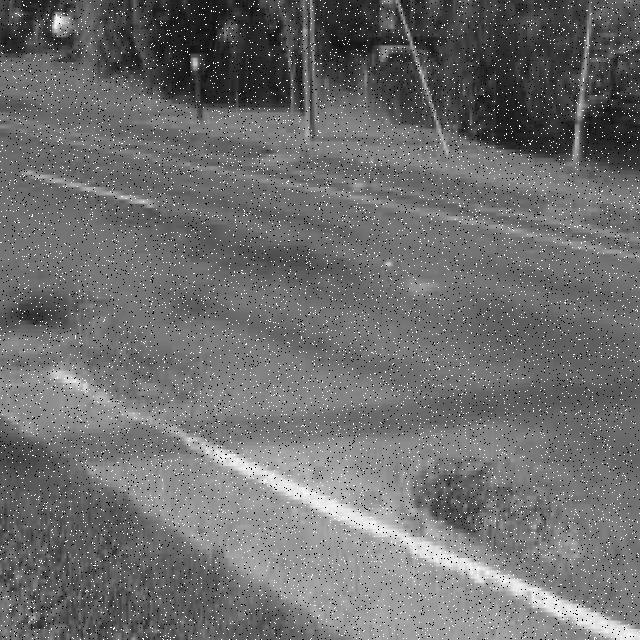pothole: (21, 291, 186, 387), (412, 458, 551, 541), (0, 295, 21, 308)
